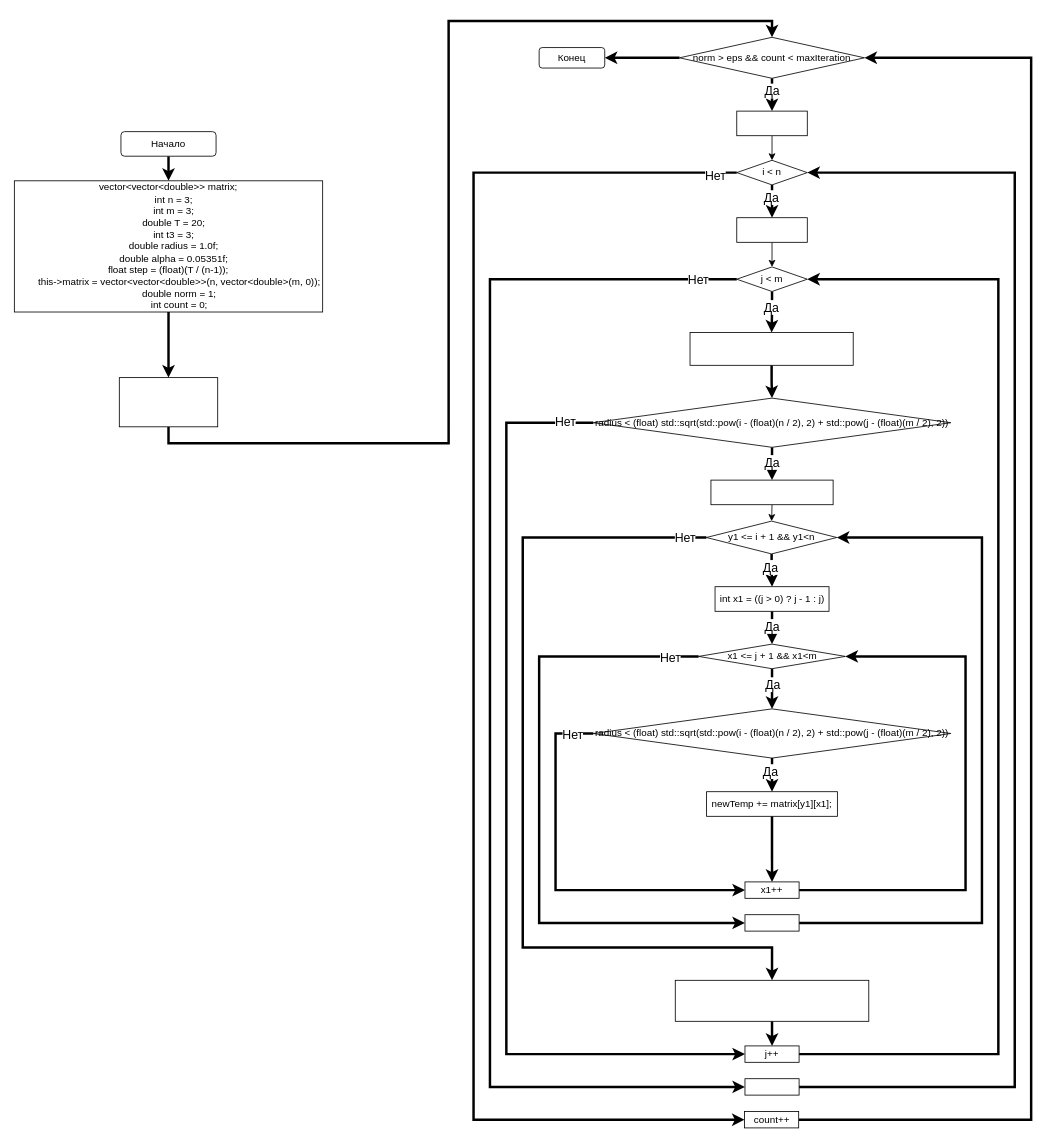
The diagram is 1053 pixels wide and 1142 high, and some of its shapes have lost their labels. The shapes that lost their labels are listed below. From the top down, each one's box as (x1, y1, x2, y2) in pixels, then its label:
(736, 110, 807, 136): int i = 0;
(736, 217, 807, 242): int j = 0;
(689, 332, 853, 365): double oldTemp = this->matrix[i][j]; double newTemp = 0.0f;
(118, 377, 218, 427): Подготовка матрицы
(710, 479, 833, 505): int y1 = ((i > 0) ? i - 1 : i);
(744, 914, 799, 931): y1++
(674, 979, 869, 1021): this->matrix[i][j] = newTemp * this->alpha; norm = std::abs(newTemp - oldTemp);
(744, 1078, 799, 1095): i++
